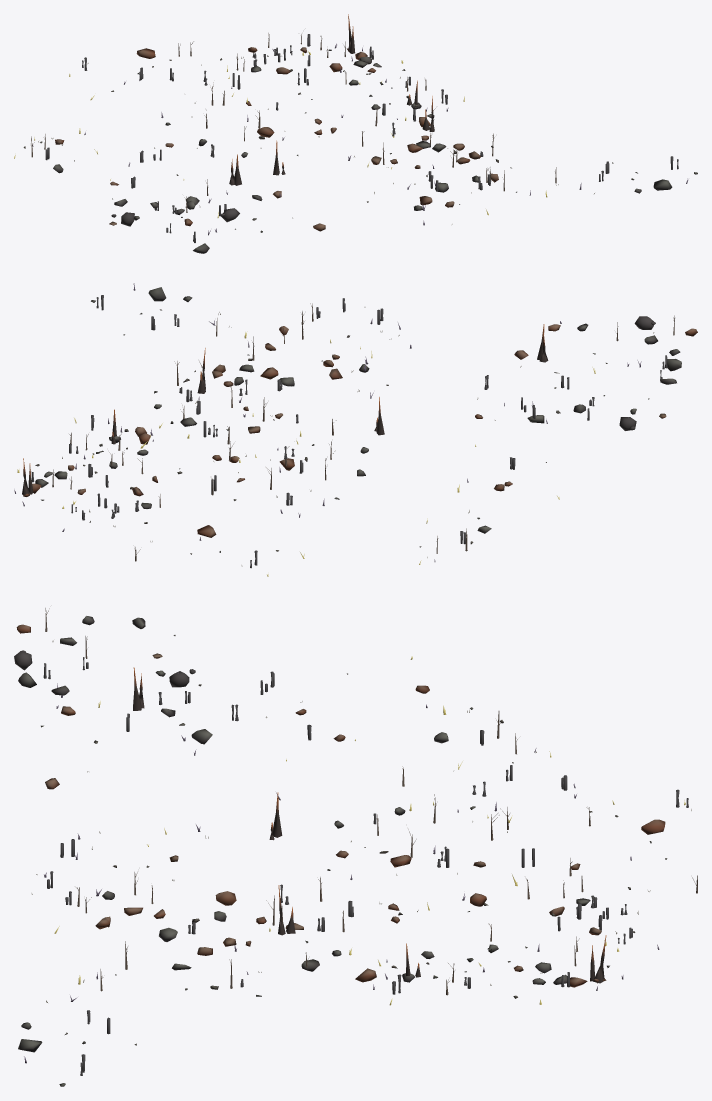
File: ash_land_scatter_c18_27_lod1.glb
3 renders of one model, top to bottom at view 1: azimuth 30°, elevation 25°; view 2: azimuth 150°, elevation 25°; view 3: azimuth 270°, elevation 25°, orthographic. The views are drawn at different scales.
Visible parts, largest first — view 1: ash_land_scatter_c18_27_lod1; view 2: ash_land_scatter_c18_27_lod1; view 3: ash_land_scatter_c18_27_lod1.
Boxes of the visible parts, left/top/right/bottom form: ash_land_scatter_c18_27_lod1: left=14, top=14, right=697, bottom=253; ash_land_scatter_c18_27_lod1: left=14, top=283, right=697, bottom=576; ash_land_scatter_c18_27_lod1: left=14, top=608, right=697, bottom=1086.
Bounding box in the file's own units: 217 × 41.08 × 175.
